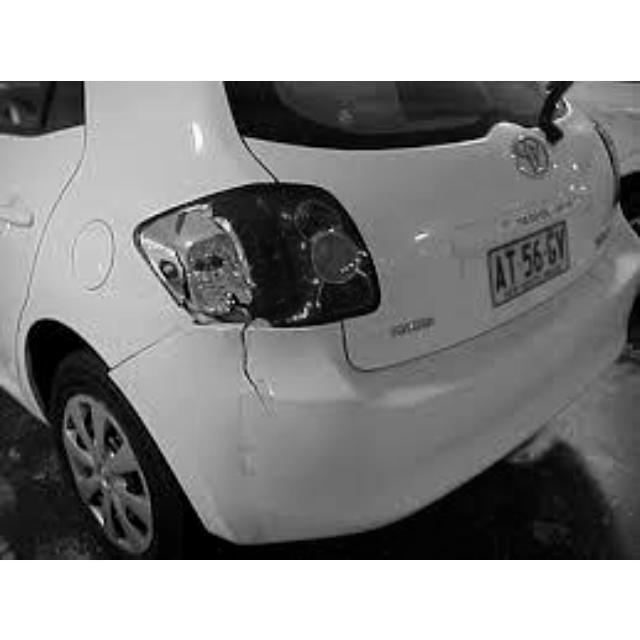rear-bumper-dent: (213, 317, 390, 517)
